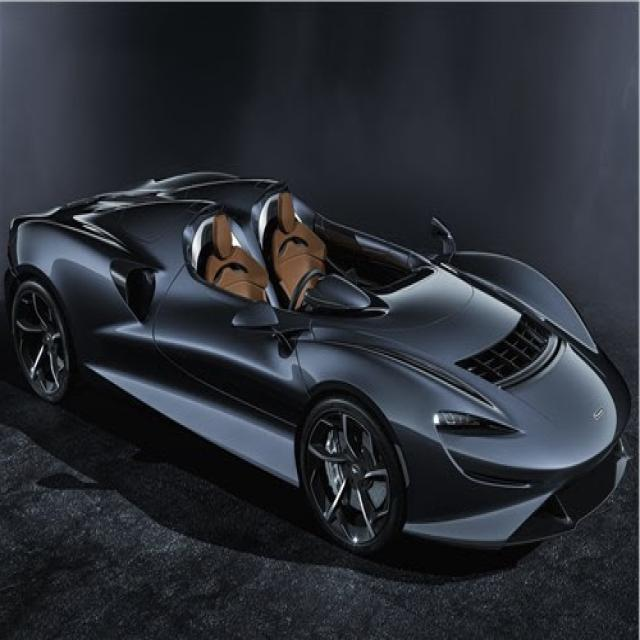car: (4, 169, 634, 558)
